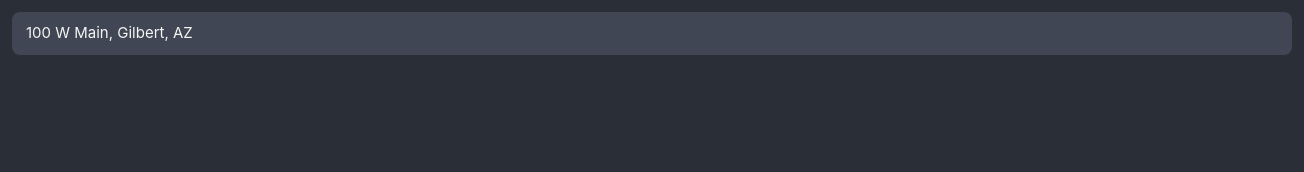
Test: editing a prefilled address requests suggestions for the whole new text
The image size is (1304, 172).
Later steps or results of the test are not shown.
Replace the text in the field with test id "address" with "200 Other St, Mesa, AZ": [652, 33] box top-left (12, 12), bottom-right (1292, 54)
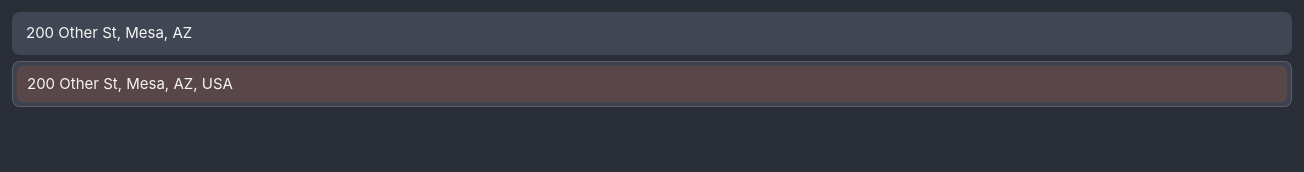
Result: the option shows "200 Other St, Mesa, AZ" at top-left (17, 66), bottom-right (1287, 102)
